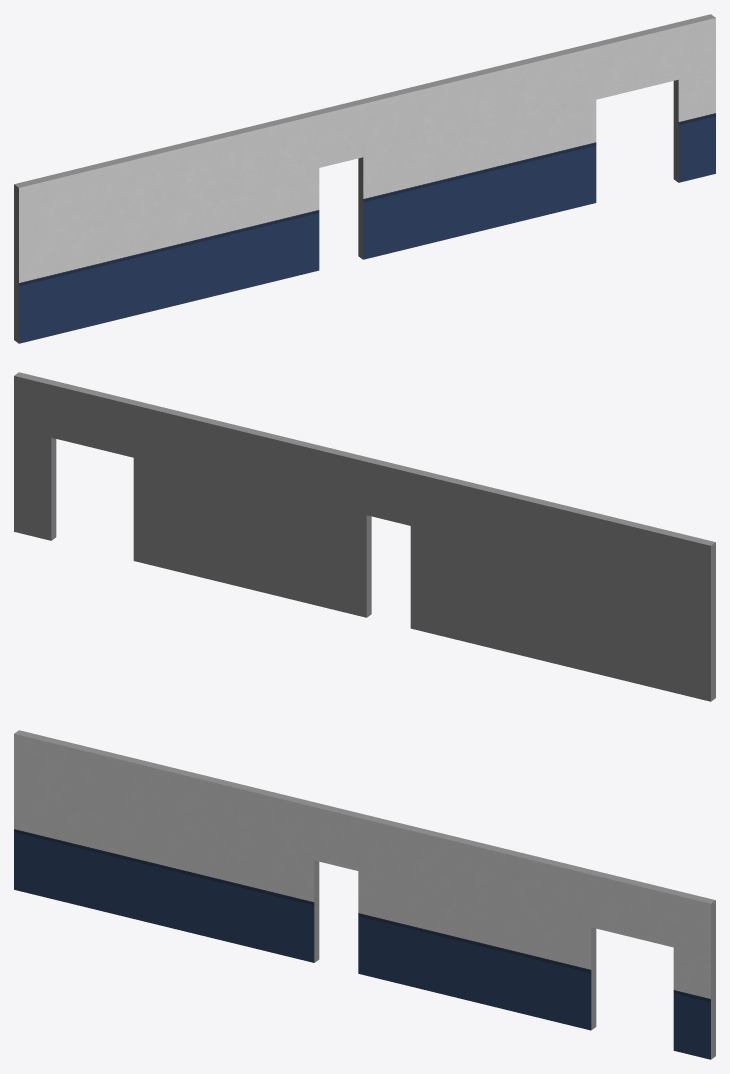
Rendered from Wall 1.FBX.
The picture shows the model from 3 angles, top to bottom: view 1: azimuth 30°, elevation 25°; view 2: azimuth 150°, elevation 25°; view 3: azimuth 330°, elevation 25°; orthographic projection.
Parts seen in each view (by area): view 1: Wall 1; view 2: Wall 1; view 3: Wall 1.
Boxes of the visible parts, box(x1,y1,x2,y2) form: Wall 1: box(14, 14, 715, 343); Wall 1: box(14, 372, 715, 701); Wall 1: box(14, 730, 715, 1059).
Size of the model in its own units: 1442 by 308 by 18.
2 materials, 1 textured.
